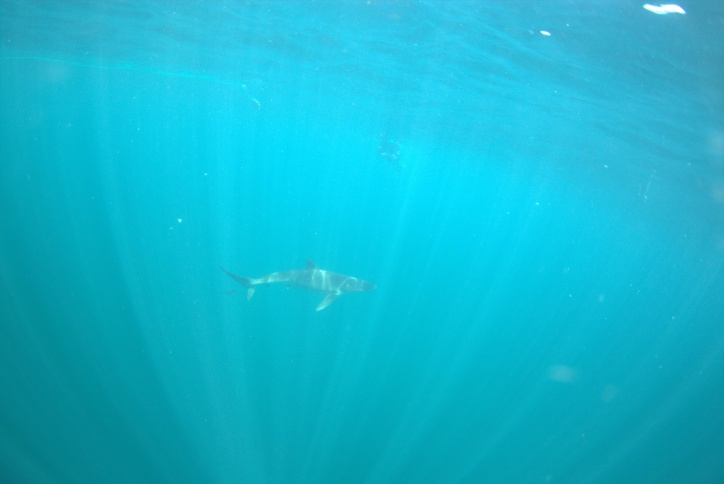Sedoso: (185, 245, 390, 328)
